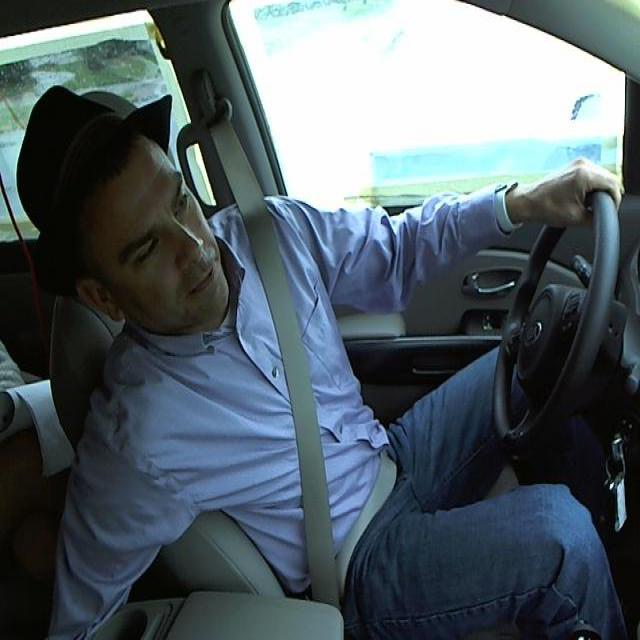seatbelt: (221, 167, 353, 609)
